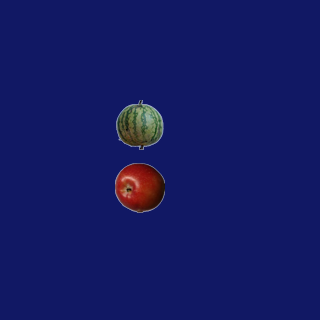Apple Braeburn: (114, 162, 164, 212)
Watermelon: (114, 99, 164, 149)
